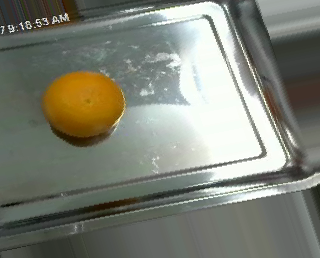Orange: (43, 70, 125, 137)
